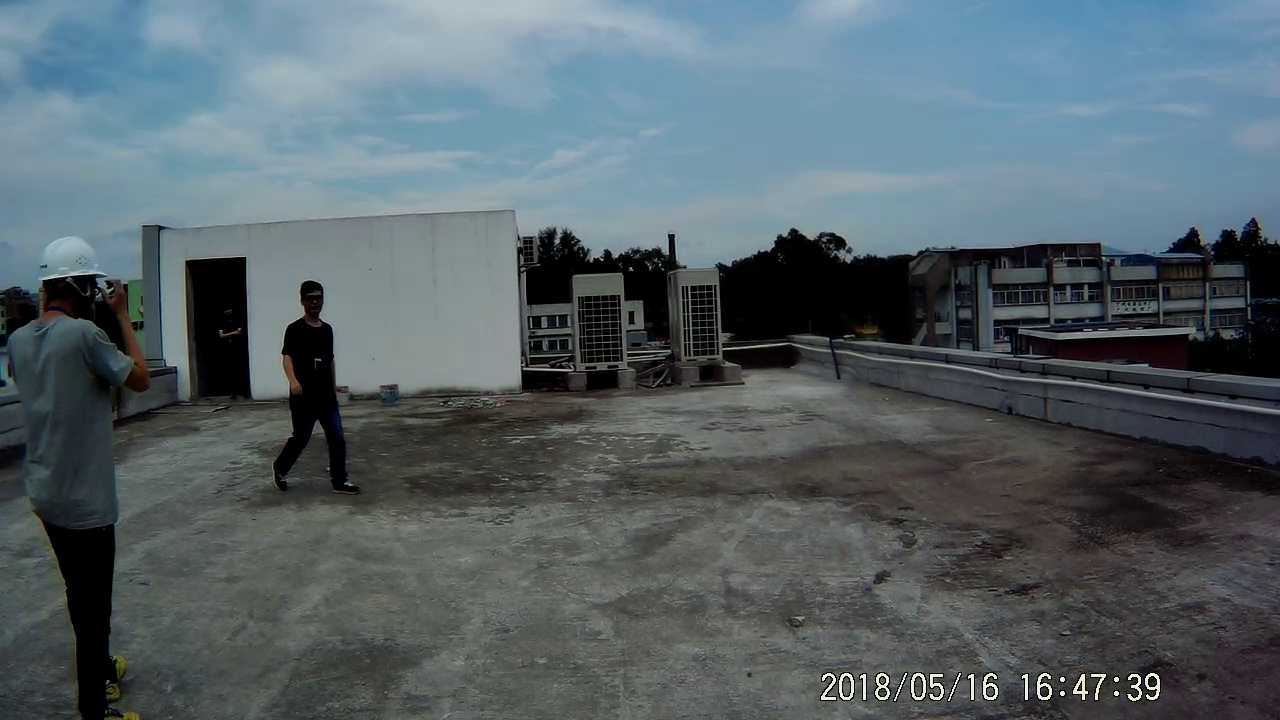none: (295, 273, 328, 320)
white: (35, 227, 106, 325)
